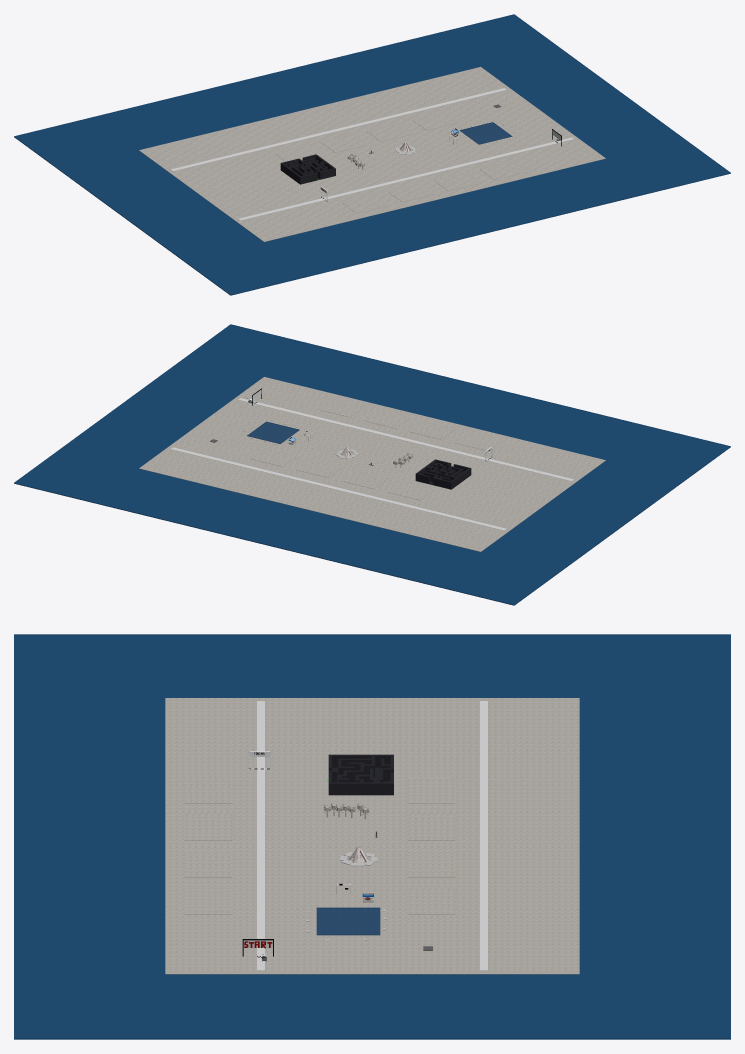
The model's file is word.obj.
The picture shows the model from 3 angles, top to bottom: view 1: azimuth 30°, elevation 25°; view 2: azimuth 150°, elevation 25°; view 3: azimuth 270°, elevation 25°; orthographic projection. The views are drawn at different scales.
Parts seen in each view (by area): view 1: Islandwater1, Ground1, Bottomrow011, Toprow011, Lake1, Plottoprowright011, Plotbottomrowright011, Plottoprowright021, Plotbottomrowright031, Plotbottomrowright021, Plottoprowright041, Plottoprowright031; view 2: Islandwater1, Ground1, Bottomrow011, Toprow011, Lake1, Plottoprowright031, Plotbottomrowright021, Plottoprowright011, Plottoprowright021, Plotbottomrowright011, Plotbottomrowright041, Plotbottomrowright031 (+1 smaller); view 3: Islandwater1, Ground1, Bottomrow011, Toprow011, Lake1, Plottoprowright011, Plottoprowright031, Plottoprowright041, Plottoprowright021, Plotbottomrowright011, Plotbottomrowright041, Plotbottomrowright031 (+2 smaller).
Boxes of the visible parts, bbox=[...] form: Islandwater1: bbox=[14, 14, 730, 295]; Ground1: bbox=[139, 67, 605, 241]; Bottomrow011: bbox=[171, 88, 506, 171]; Toprow011: bbox=[238, 137, 573, 220]; Lake1: bbox=[460, 122, 512, 144]; Plottoprowright011: bbox=[480, 161, 526, 179]; Plotbottomrowright011: bbox=[413, 112, 459, 130]; Plottoprowright021: bbox=[434, 172, 480, 191]; Plotbottomrowright031: bbox=[321, 134, 367, 152]; Plotbottomrowright021: bbox=[367, 123, 413, 141]; Plottoprowright041: bbox=[342, 195, 388, 213]; Plottoprowright031: bbox=[388, 184, 434, 202]; Islandwater1: bbox=[14, 324, 730, 605]; Ground1: bbox=[139, 377, 605, 551]; Bottomrow011: bbox=[171, 447, 506, 530]; Toprow011: bbox=[238, 398, 573, 481]; Lake1: bbox=[247, 421, 299, 443]; Plottoprowright031: bbox=[409, 421, 455, 439]; Plotbottomrowright021: bbox=[296, 459, 342, 477]; Plottoprowright011: bbox=[317, 399, 363, 417]; Plottoprowright021: bbox=[363, 410, 409, 428]; Plotbottomrowright011: bbox=[250, 448, 296, 466]; Plotbottomrowright041: bbox=[387, 481, 433, 500]; Plotbottomrowright031: bbox=[342, 470, 388, 488]; Islandwater1: bbox=[14, 634, 730, 1039]; Ground1: bbox=[165, 698, 579, 974]; Bottomrow011: bbox=[480, 701, 487, 970]; Toprow011: bbox=[257, 701, 264, 970]; Lake1: bbox=[316, 907, 380, 935]; Plottoprowright011: bbox=[184, 888, 232, 914]; Plottoprowright031: bbox=[184, 814, 232, 840]; Plottoprowright041: bbox=[184, 777, 232, 803]; Plottoprowright021: bbox=[184, 851, 232, 877]; Plotbottomrowright011: bbox=[407, 888, 455, 914]; Plotbottomrowright041: bbox=[407, 777, 455, 803]; Plotbottomrowright031: bbox=[407, 814, 455, 840].
Size of the model in its own units: 1200 by 28.76 by 900.
